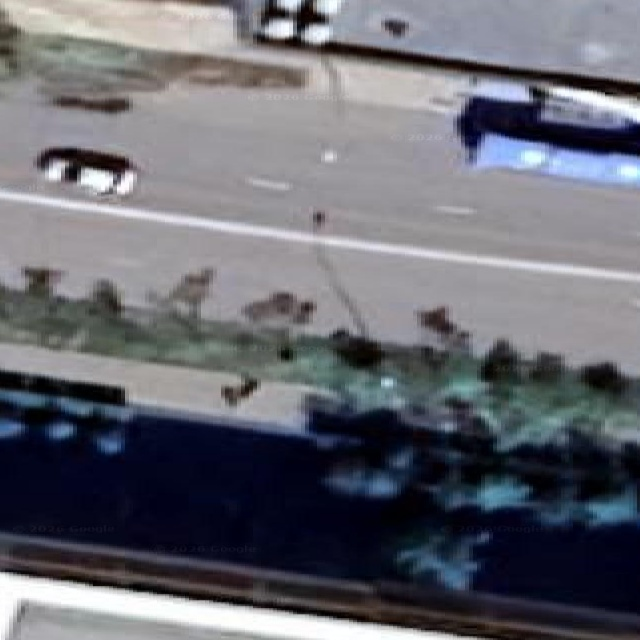car: (457, 82, 639, 187), (35, 147, 138, 195)
